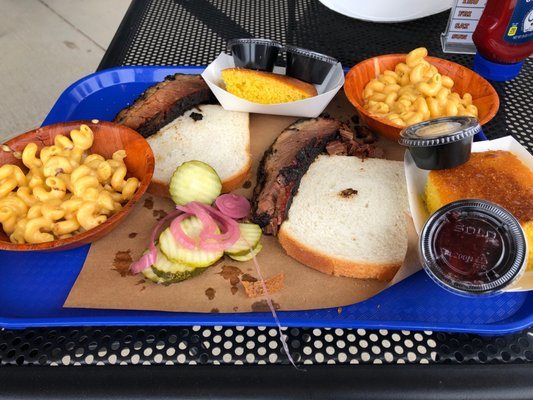soup: (276, 154, 410, 282)
sushi: (0, 120, 156, 254), (344, 48, 499, 144), (202, 37, 345, 119), (418, 198, 530, 296)
